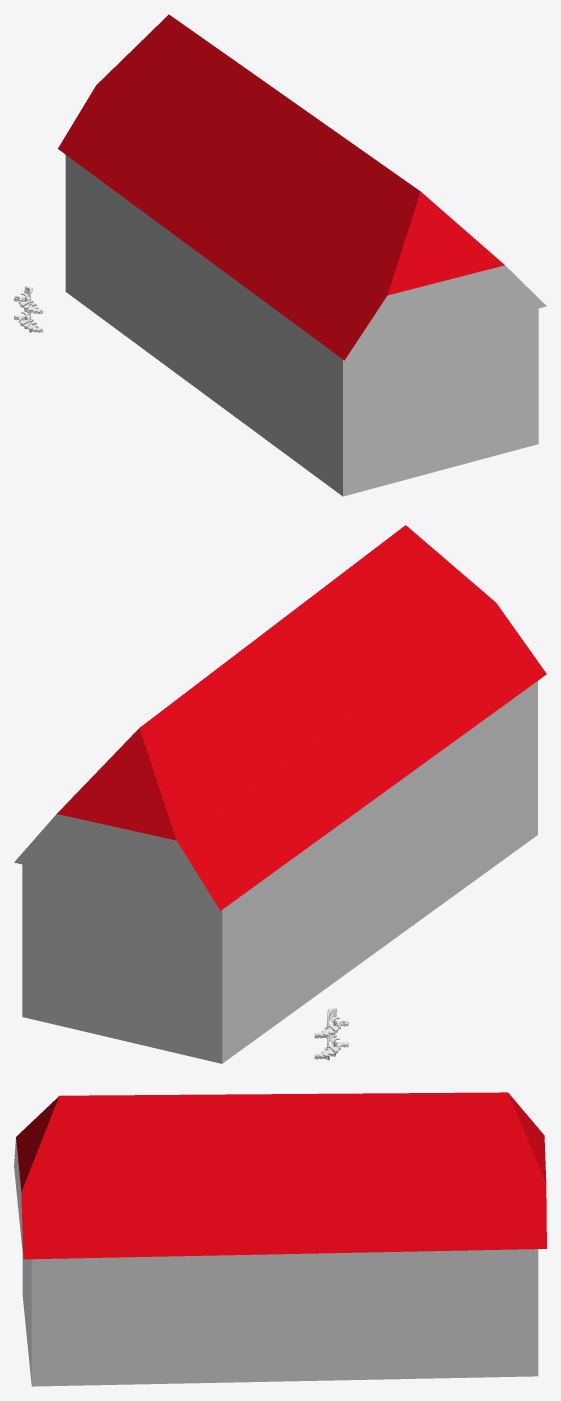
Rendered from friedrichstrakt.nc.glb.
3 views of the same model, one above another, from view 1: azimuth 30°, elevation 25°; view 2: azimuth 150°, elevation 25°; view 3: azimuth 270°, elevation 25° (orthographic). The views are drawn at different scales.
Visible parts, largest first — view 1: Cube; view 2: Cube; view 3: Cube.
Boxes of the visible parts, x1,y1,x2,y2 form: Cube: [58, 14, 546, 496]; Cube: [14, 525, 546, 1063]; Cube: [14, 1092, 546, 1386].
Bounding box in the file's own units: 31.61 × 28.71 × 56.64.
